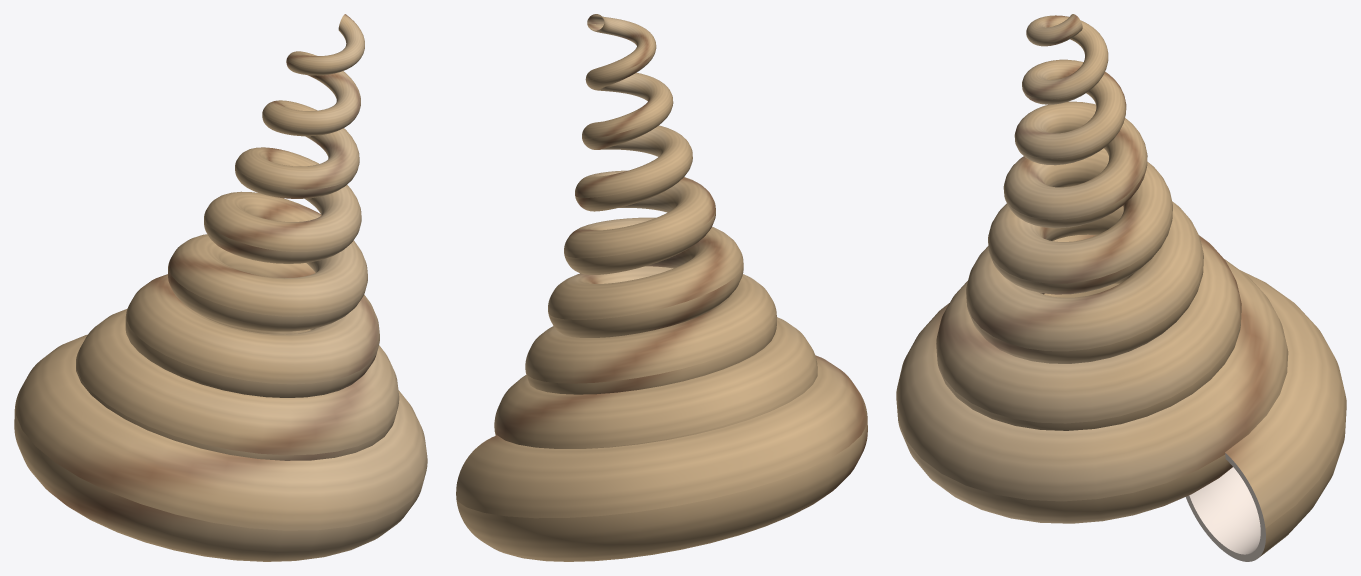
Rendered from auger.glb.
3 renders of one model, left to right at view 1: azimuth 30°, elevation 25°; view 2: azimuth 150°, elevation 25°; view 3: azimuth 270°, elevation 25°, orthographic. The views are drawn at different scales.
Visible parts, largest first — view 1: auger; view 2: auger; view 3: auger.
Boxes of the visible parts, <box> form: auger: <box>14,14,427,561</box>; auger: <box>456,14,867,561</box>; auger: <box>896,14,1346,561</box>.
Size of the model in its own units: 1.42 by 2.01 by 1.52.
